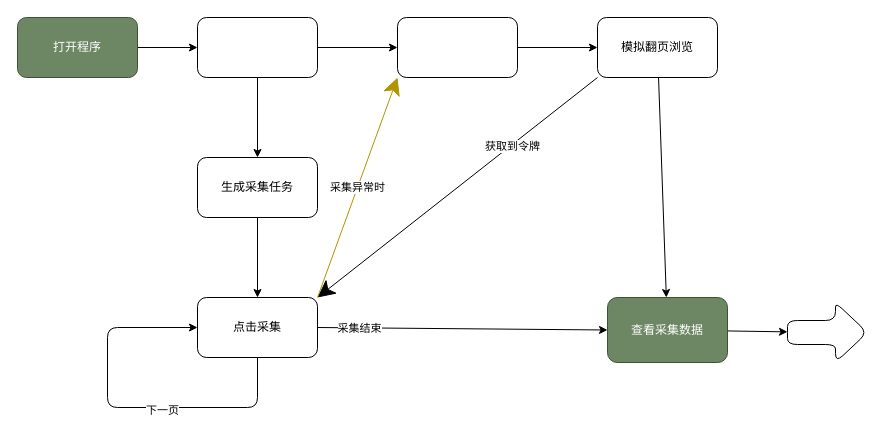
Image size: 885x434. Some labels were removed from this diagram. Each missing label, with the box of its shape:
导出数据: (786, 302, 868, 362)
打开采集配置页: (196, 16, 318, 78)
登录拼多多账号: (396, 16, 518, 78)
